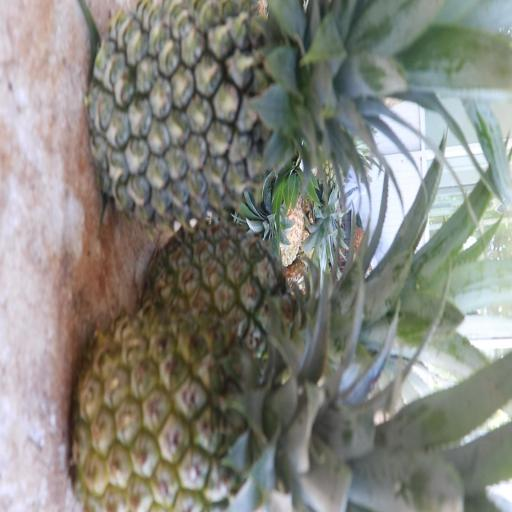------------------------------: (65, 295, 397, 509), (135, 219, 360, 380)
